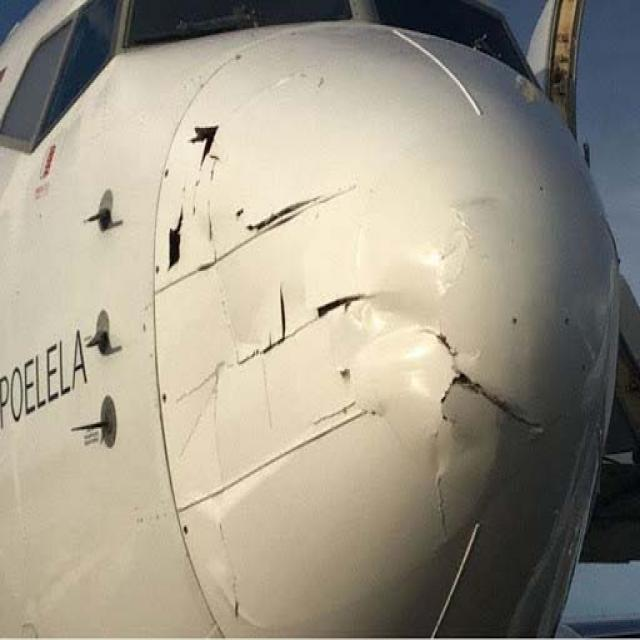crack: (434, 338, 550, 518), (243, 193, 348, 236), (168, 221, 193, 281), (192, 128, 221, 158)
